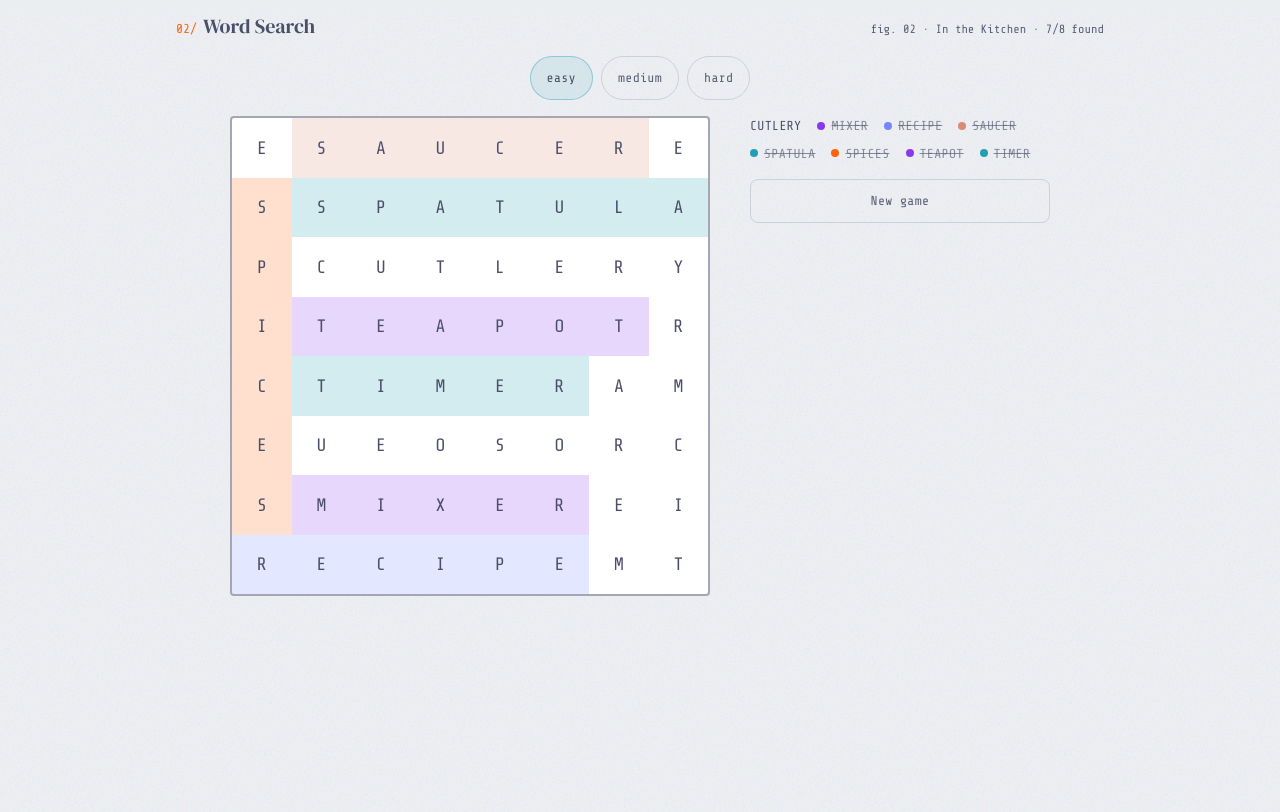
Test case: confetti on solve › bursts on finding the last word live
The image size is (1280, 812).
Step 1. Click the 2nd cell "C" → (321, 267), box [292,237,351,296]
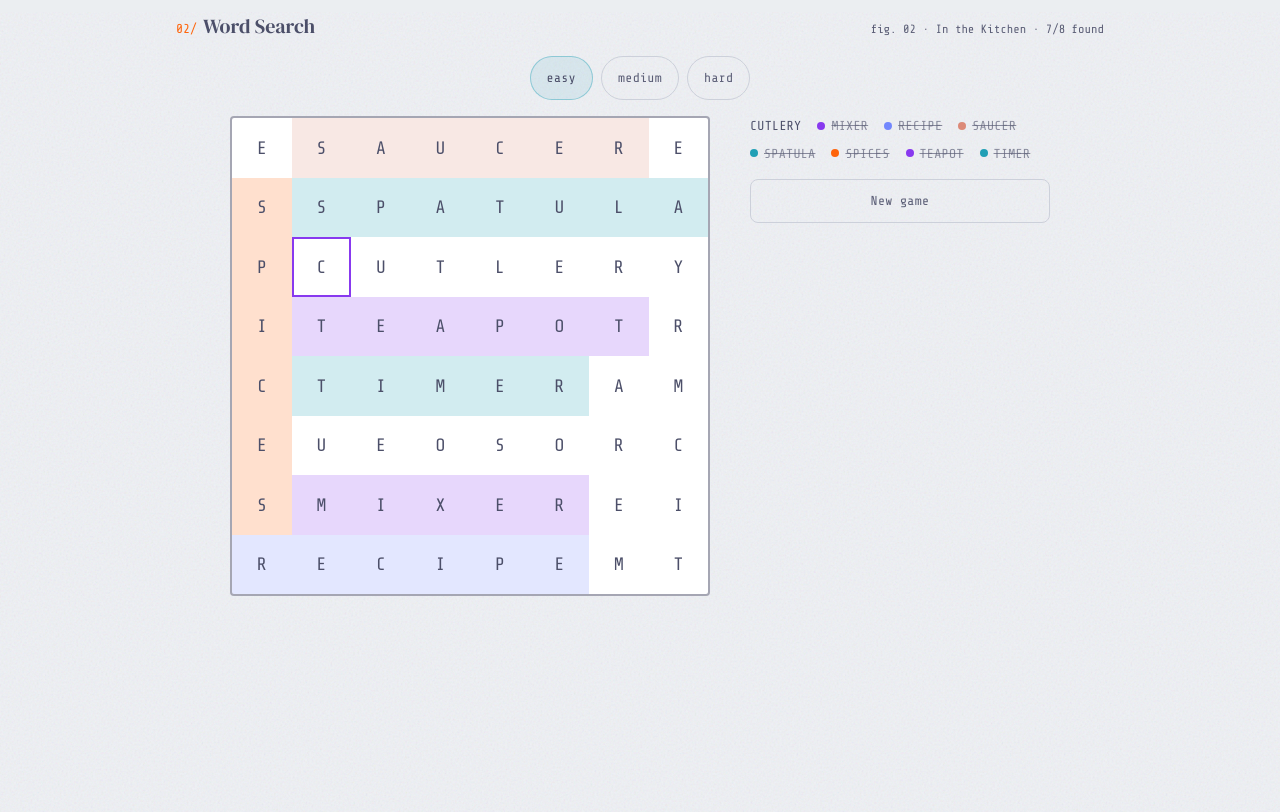
Step 2. Click the cell "Y" → (678, 267), box [648,237,708,296]
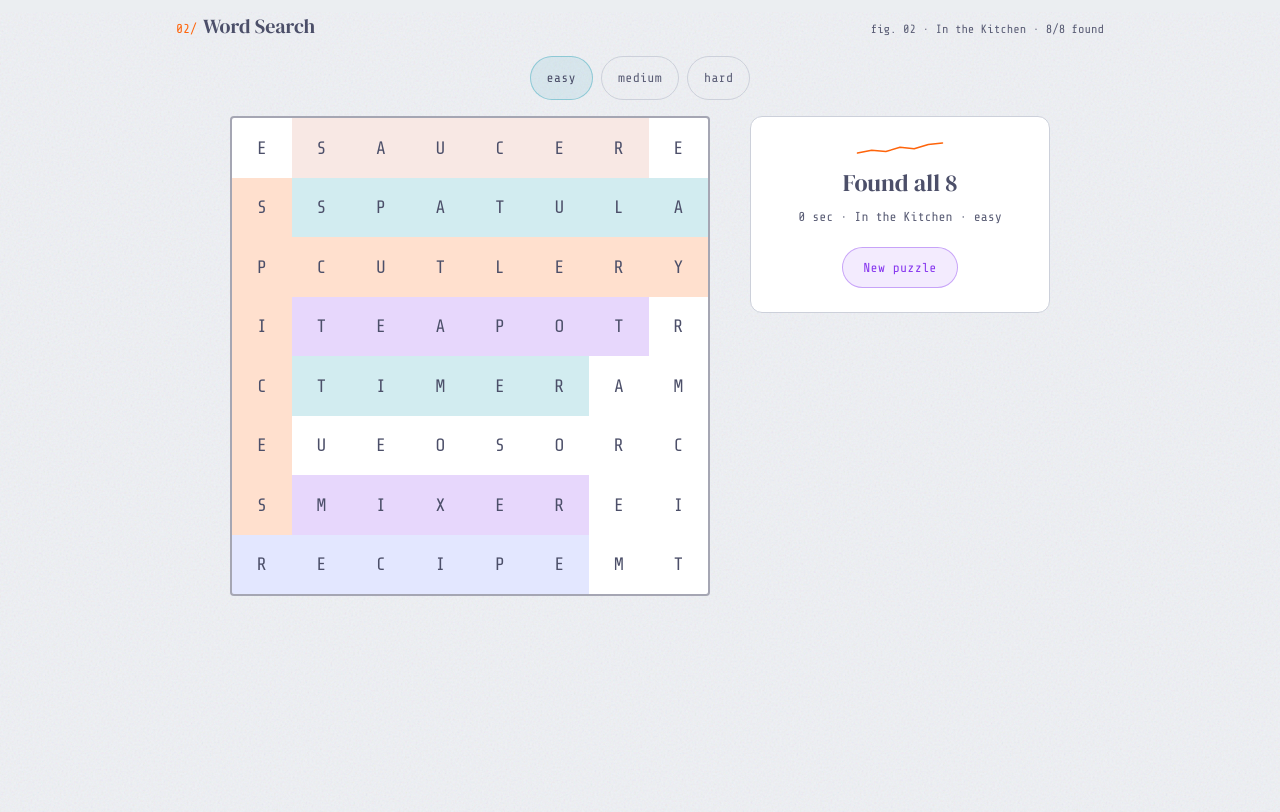
Now the drawing is shown
